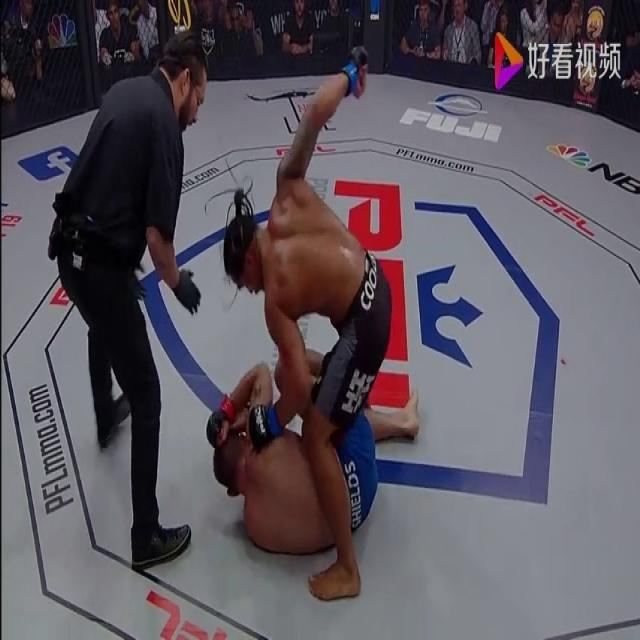fight: (197, 24, 411, 576)
non-fight: (34, 4, 213, 565)
